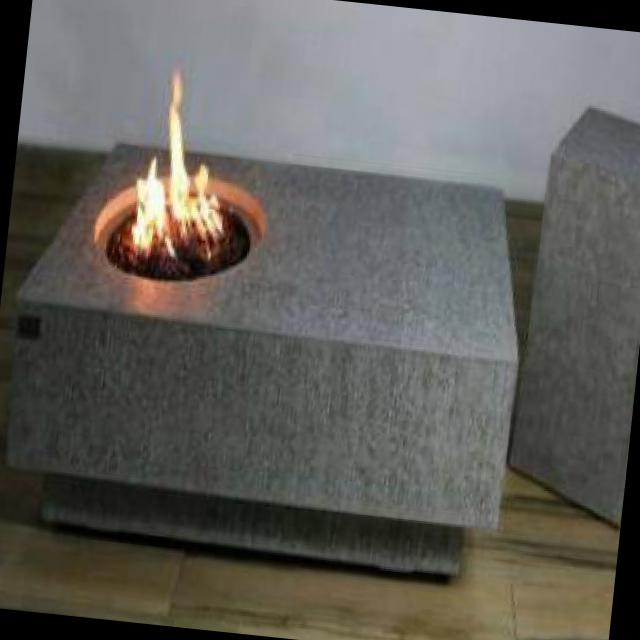fire: (124, 52, 243, 266)
